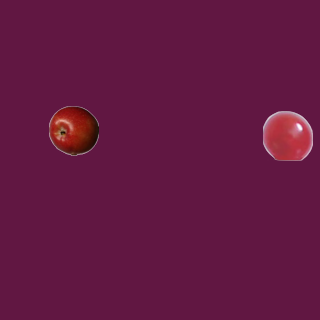Apple Braeburn: (48, 105, 98, 155)
Redcurrant: (262, 110, 312, 160)
